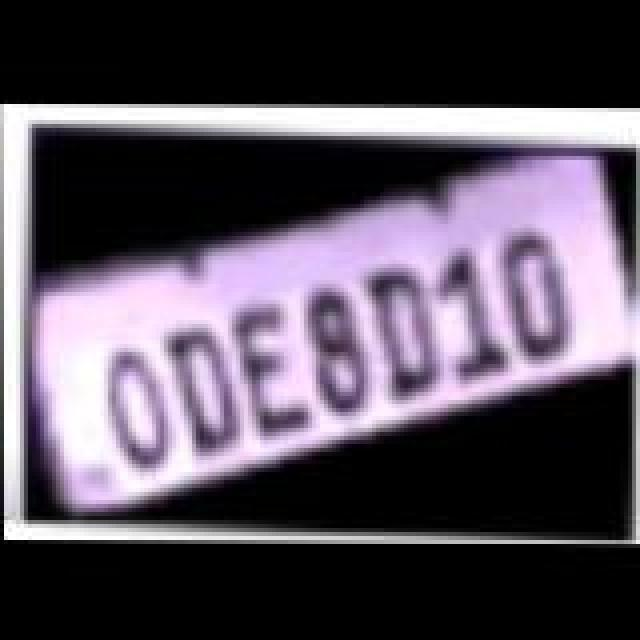1: (414, 242, 518, 378)
8: (288, 278, 388, 414)
D: (148, 318, 256, 454), (354, 260, 458, 400), (486, 222, 590, 362)
E: (216, 296, 324, 436)
O: (86, 340, 190, 468)
